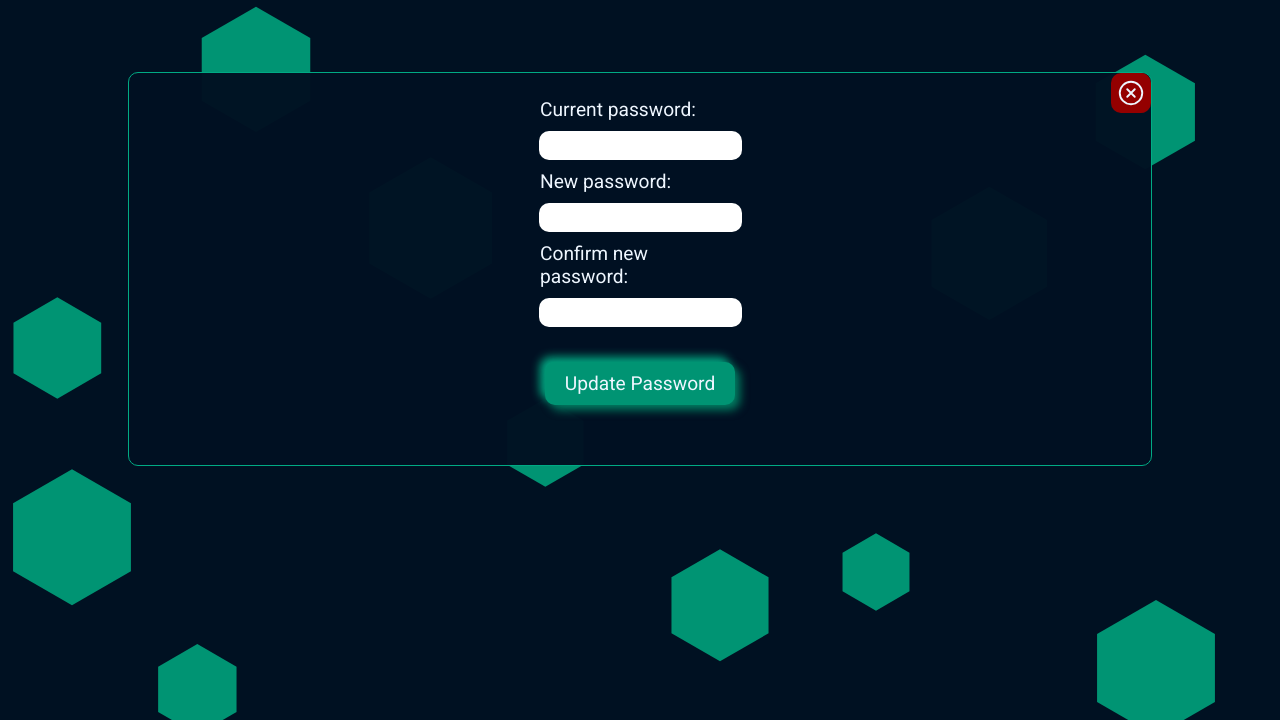
Test: UpdatePasswordModal component › Renders an error message if passwords do not match
Expected: the button "Update Password" is shown, [545,362,735,405]
Type "test" into the password field labelled "Current password:" at (640, 146), box [538,131,742,160]
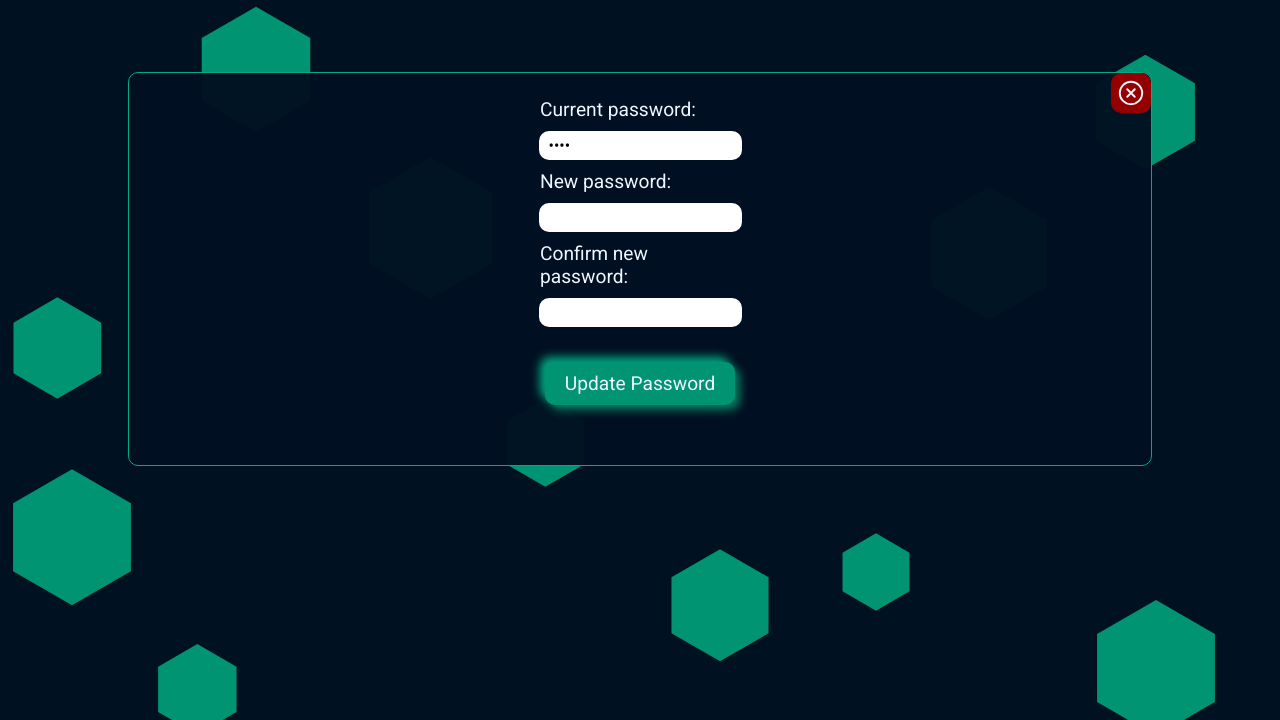
Submit the form, box [538,93,742,415]
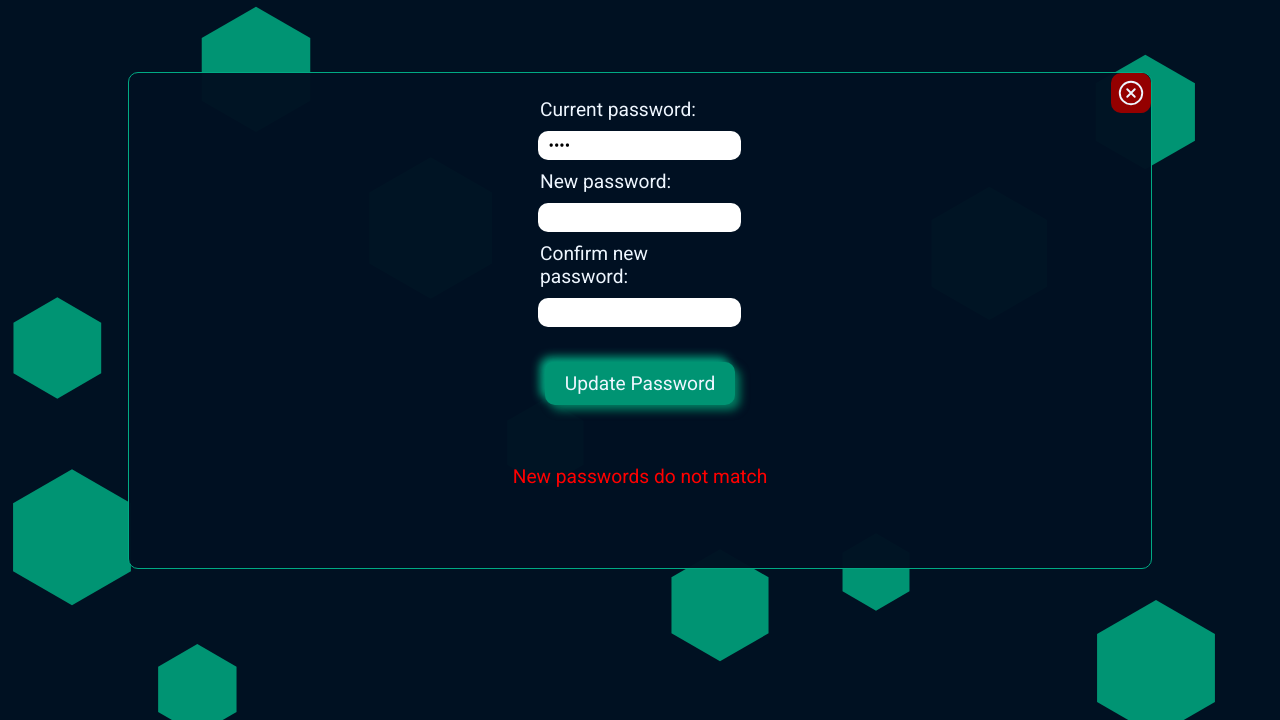
Now the message reads "New passwords do not match", box [513,465,767,488]
